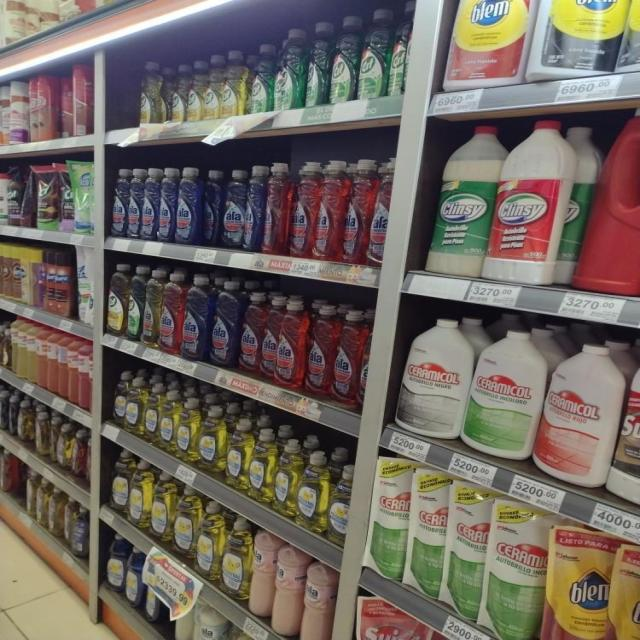ala_conc_amarillo: (143, 268, 160, 346)
ala_conc_azul: (210, 280, 240, 368), (183, 274, 209, 361), (222, 168, 245, 250), (177, 167, 201, 245), (245, 165, 264, 252), (202, 169, 222, 247), (159, 166, 176, 244), (142, 167, 158, 242), (111, 168, 128, 238), (127, 168, 142, 239)
ala_conc_rojo: (368, 158, 399, 268), (344, 160, 374, 265), (316, 160, 346, 261), (334, 308, 364, 405), (290, 161, 318, 259), (276, 298, 305, 388), (306, 304, 334, 396), (264, 163, 290, 256), (240, 289, 262, 375), (160, 272, 182, 354), (262, 295, 280, 381)
ala_crem_amarillo: (192, 607, 226, 640)
cif_conc_bot_amarilla: (106, 263, 126, 337)
cif_conc_botella_verde: (359, 8, 389, 100), (330, 15, 358, 104), (306, 20, 329, 107), (248, 43, 273, 114), (127, 266, 142, 341)
magistral_con_amarillo: (222, 516, 249, 602), (298, 450, 326, 530), (197, 500, 220, 581), (248, 426, 272, 503), (198, 404, 224, 474), (274, 437, 296, 517), (174, 485, 197, 560), (151, 473, 173, 544), (226, 419, 248, 490), (129, 460, 150, 529), (176, 395, 197, 461), (109, 450, 129, 514), (125, 376, 144, 434), (160, 386, 176, 452), (144, 380, 159, 444), (111, 372, 125, 426)
magistral_con_azul: (105, 534, 125, 594), (126, 546, 142, 609)
